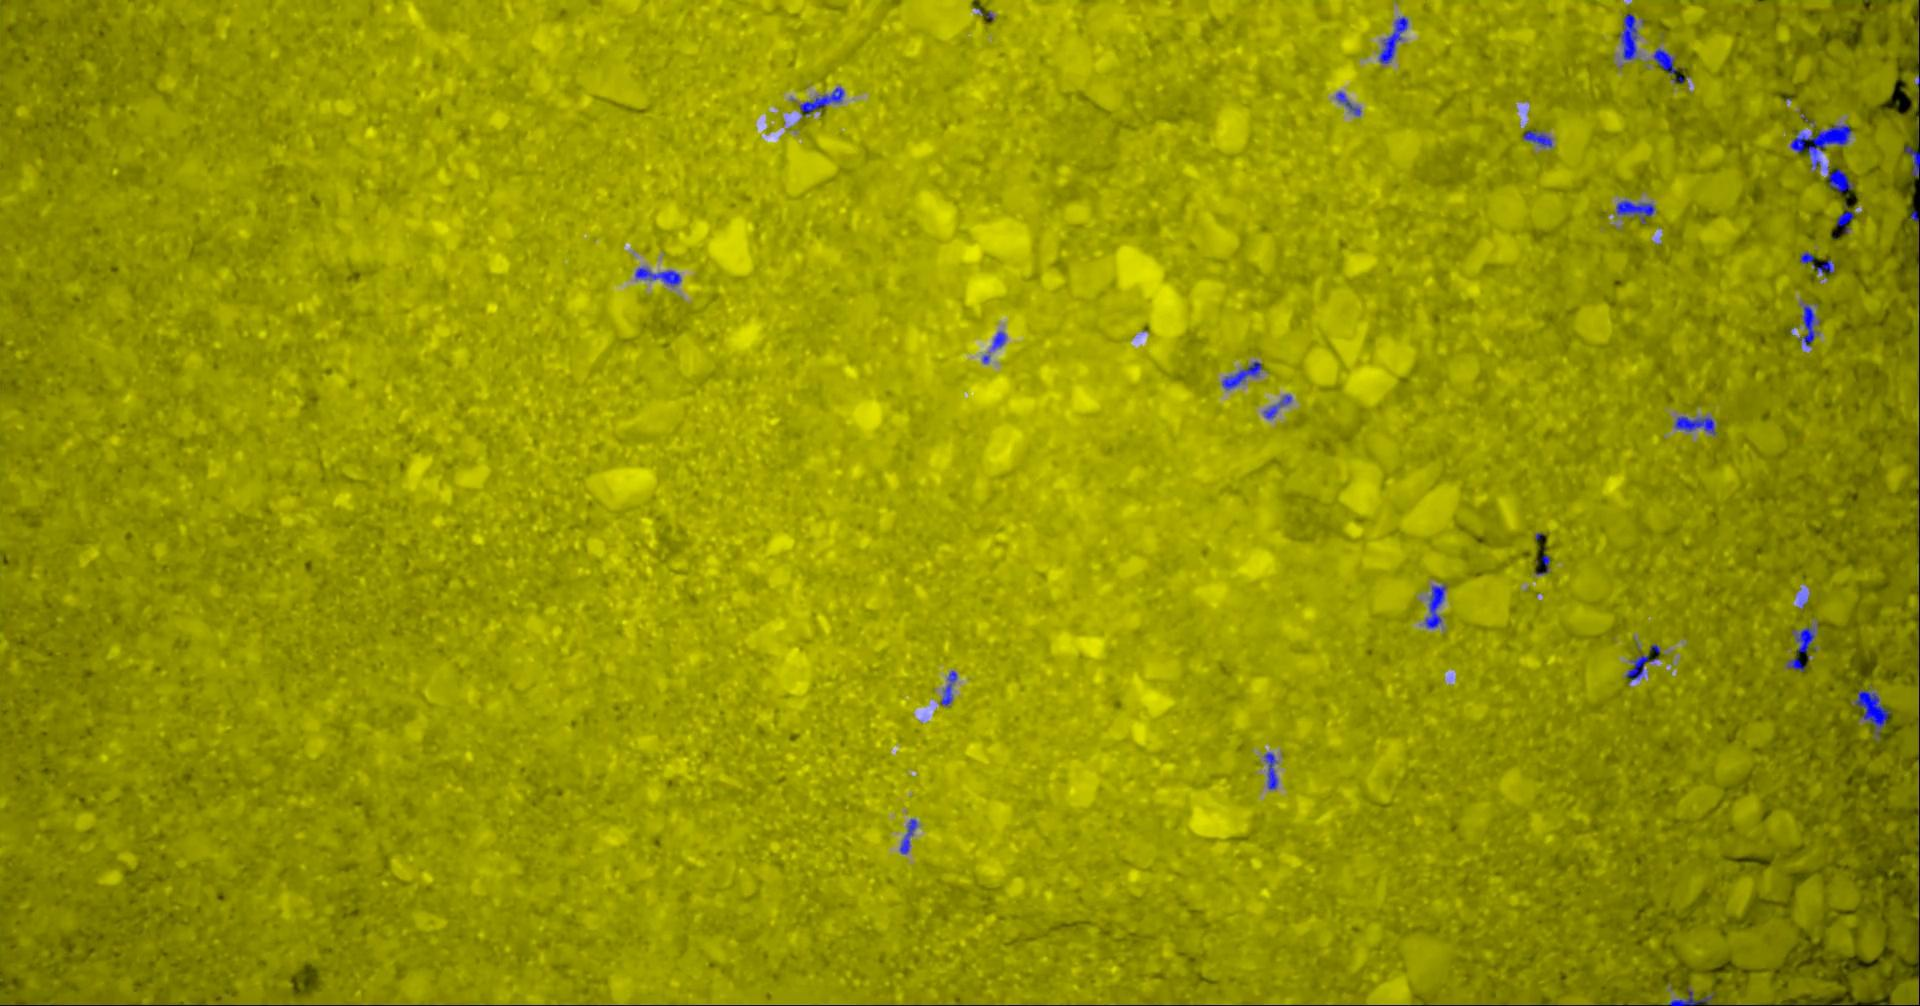ant: (1792, 124, 1853, 168), (1857, 688, 1891, 737), (1380, 17, 1410, 64), (801, 86, 844, 116), (1223, 361, 1263, 389), (1617, 199, 1656, 224), (1426, 584, 1448, 627), (1627, 654, 1658, 682), (637, 267, 682, 286), (1622, 13, 1639, 58), (1801, 251, 1836, 274), (1670, 987, 1716, 1005), (1802, 304, 1821, 345), (1676, 417, 1717, 434), (1265, 394, 1293, 418), (902, 818, 919, 854), (1337, 91, 1363, 116), (1829, 168, 1855, 191), (1655, 48, 1679, 72), (942, 669, 957, 704), (1796, 627, 1816, 653), (1265, 752, 1279, 789), (1524, 130, 1553, 146), (1905, 146, 1920, 177), (1837, 210, 1855, 232), (1537, 554, 1552, 574), (1788, 657, 1807, 671), (993, 332, 1007, 349), (1912, 210, 1920, 232)
